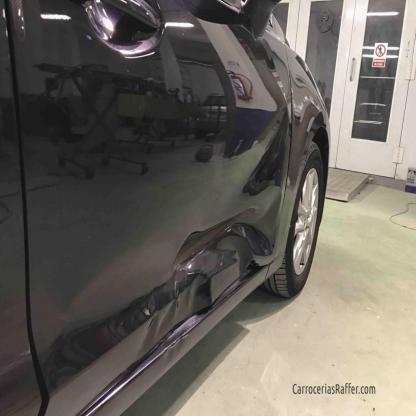door: (9, 0, 292, 413)
